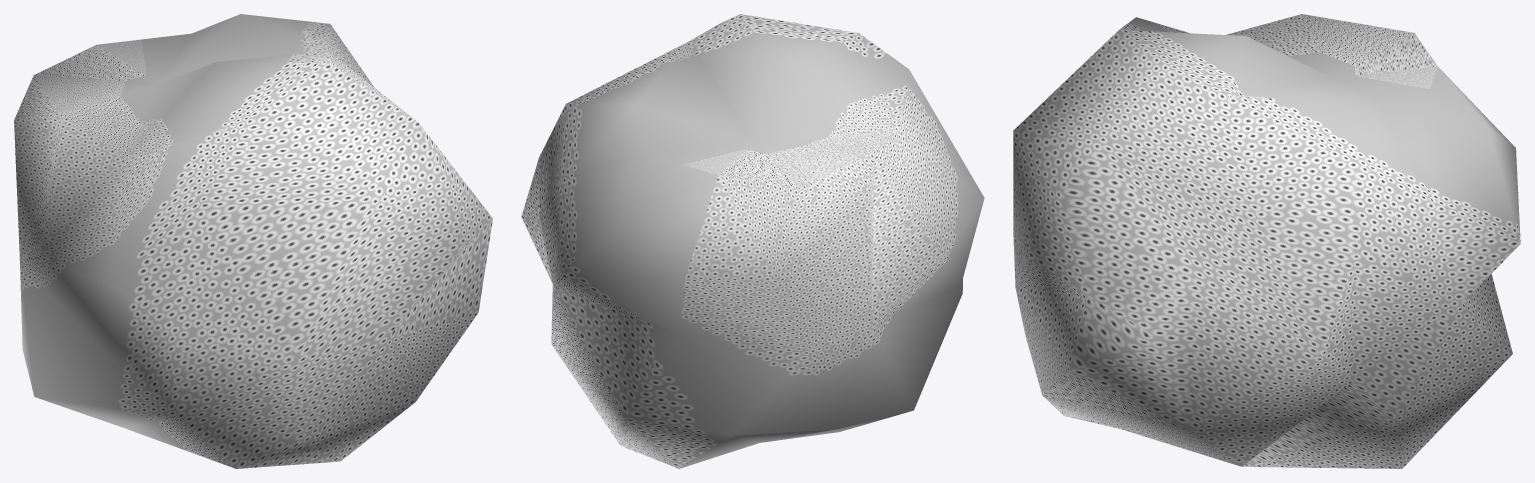
The model's file is fogMesh.fbx.
3 renders of one model, left to right at view 1: azimuth 30°, elevation 25°; view 2: azimuth 150°, elevation 25°; view 3: azimuth 270°, elevation 25°, orthographic. The views are drawn at different scales.
Parts seen in each view (by area): view 1: fogMesh; view 2: fogMesh; view 3: fogMesh.
Boxes of the visible parts, x1,y1,x2,y2 form: fogMesh: [14, 14, 492, 468]; fogMesh: [521, 14, 984, 468]; fogMesh: [1013, 14, 1520, 468].
Size of the model in its own units: 0.7136 by 0.6616 by 0.7339.
